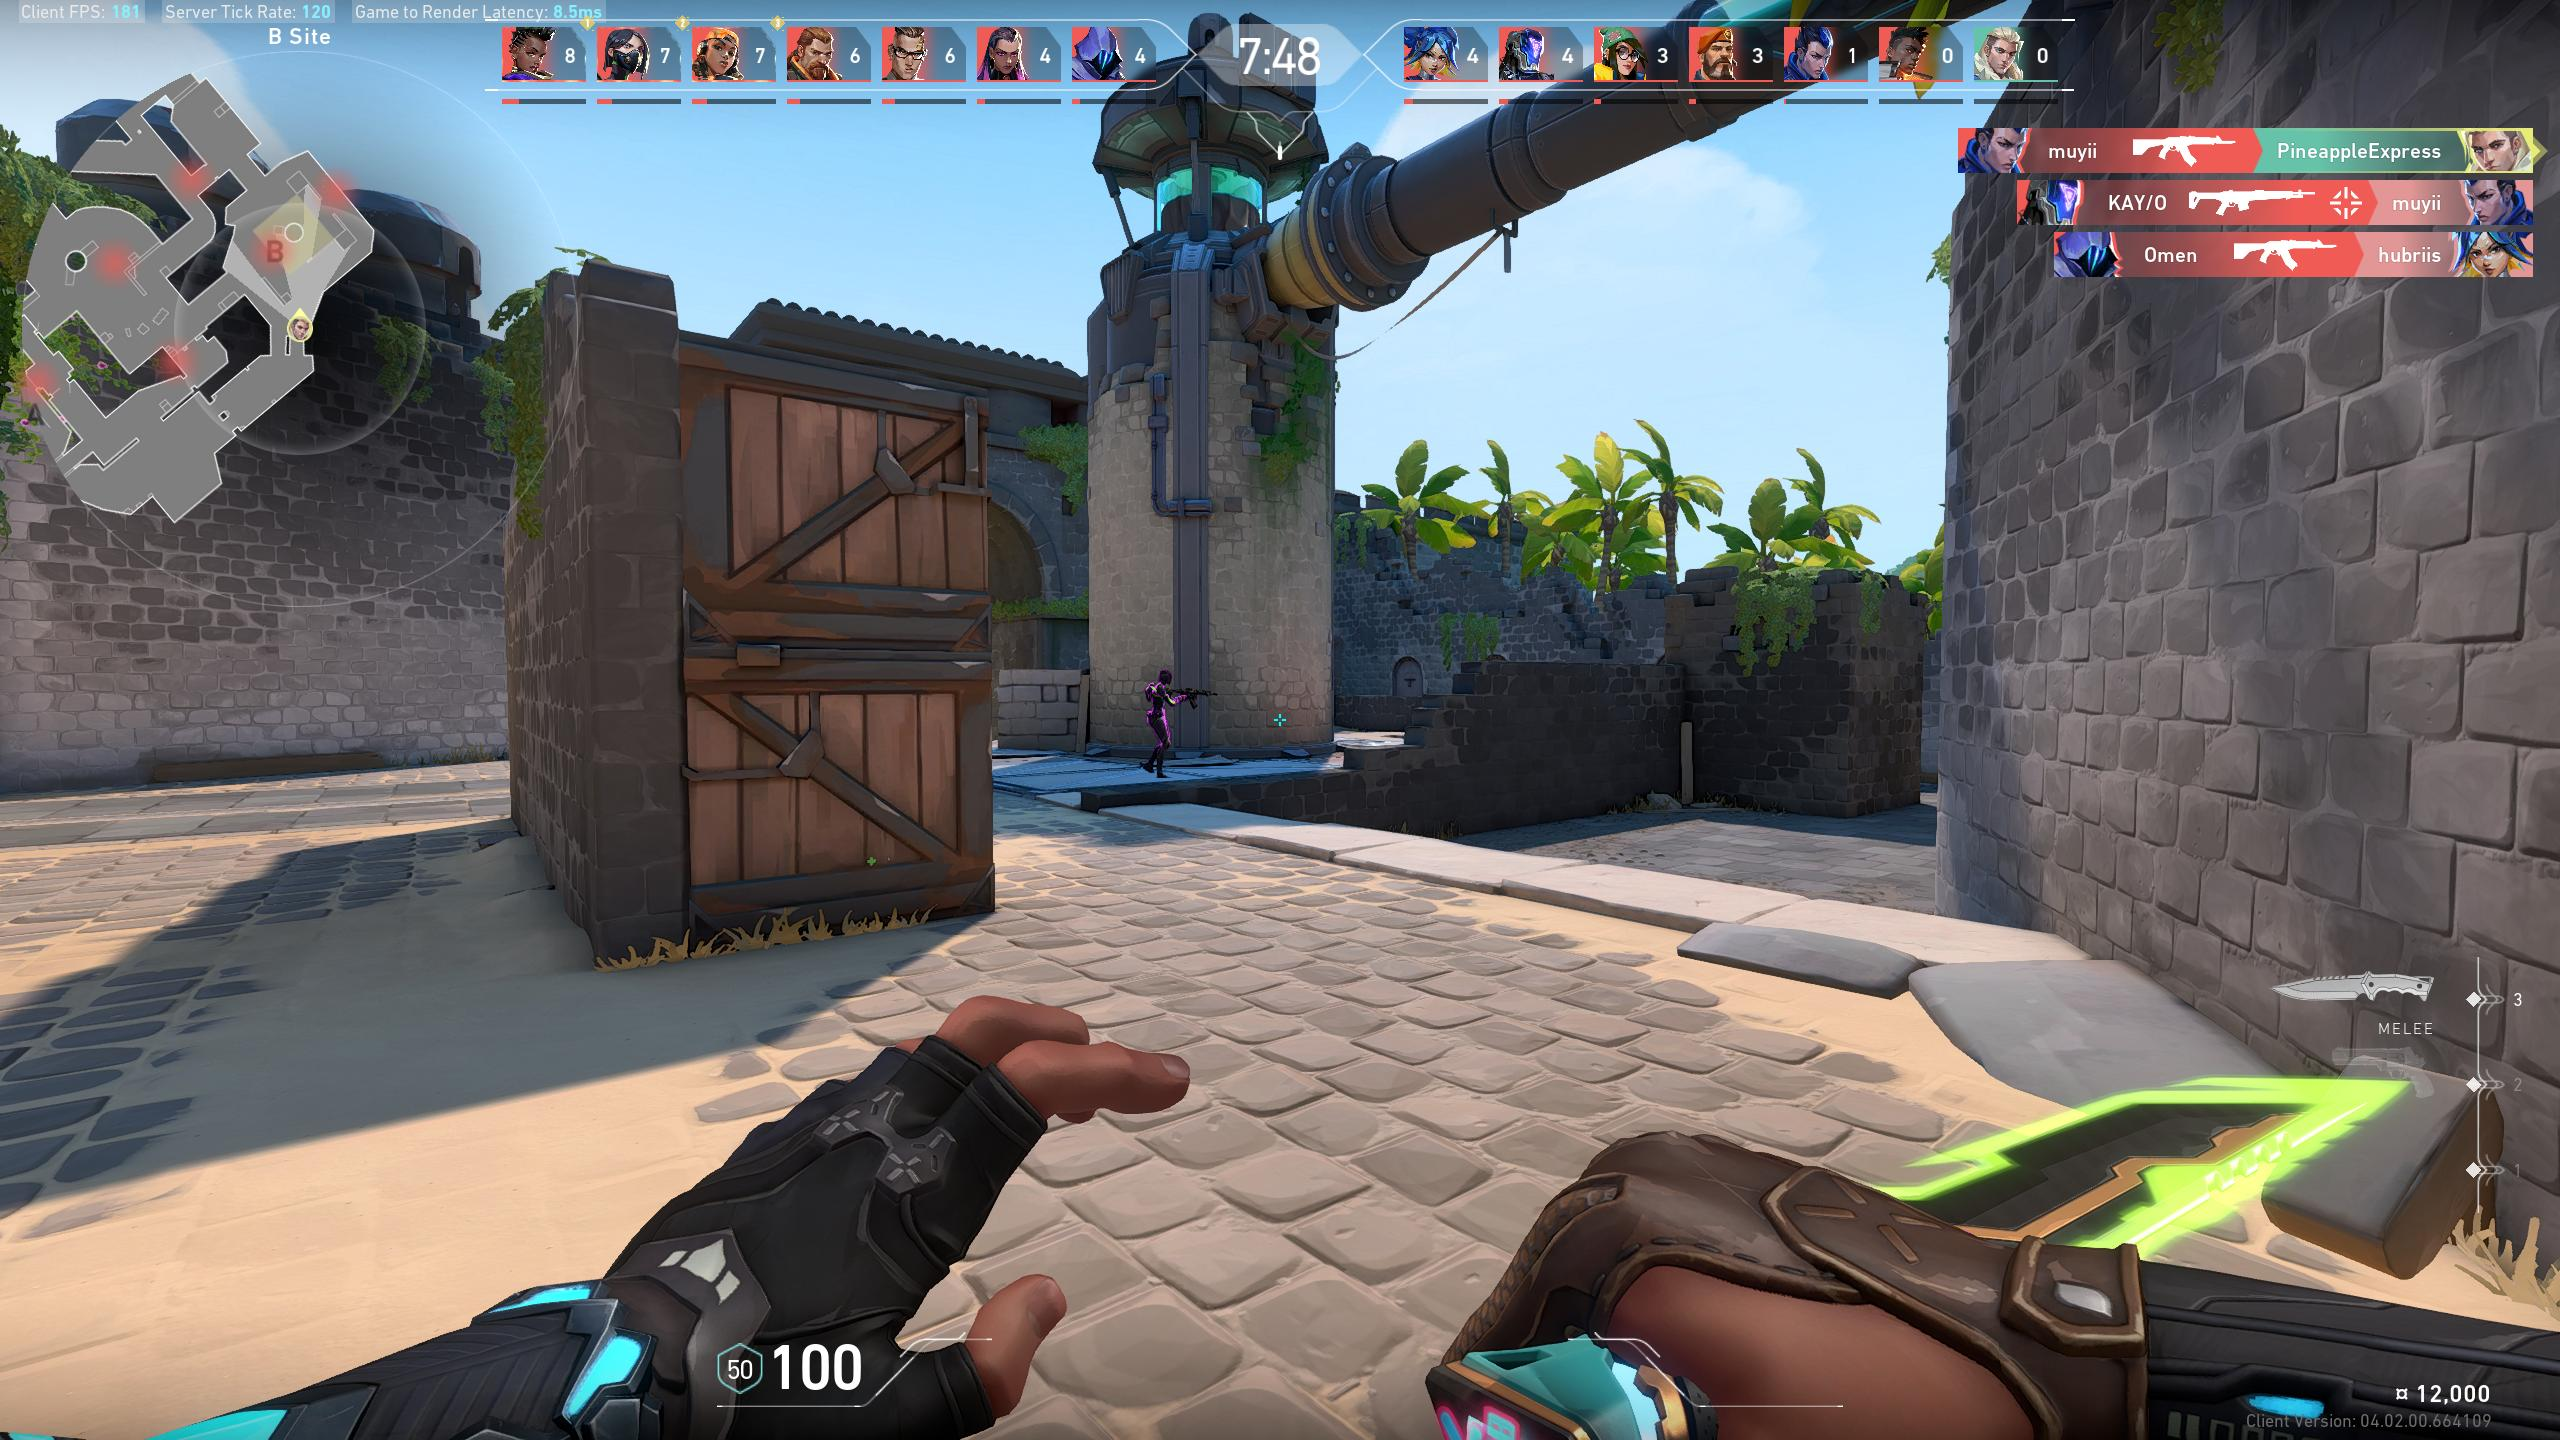enemyBody: (1155, 682, 1164, 710)
enemyHead: (1160, 673, 1169, 682)
